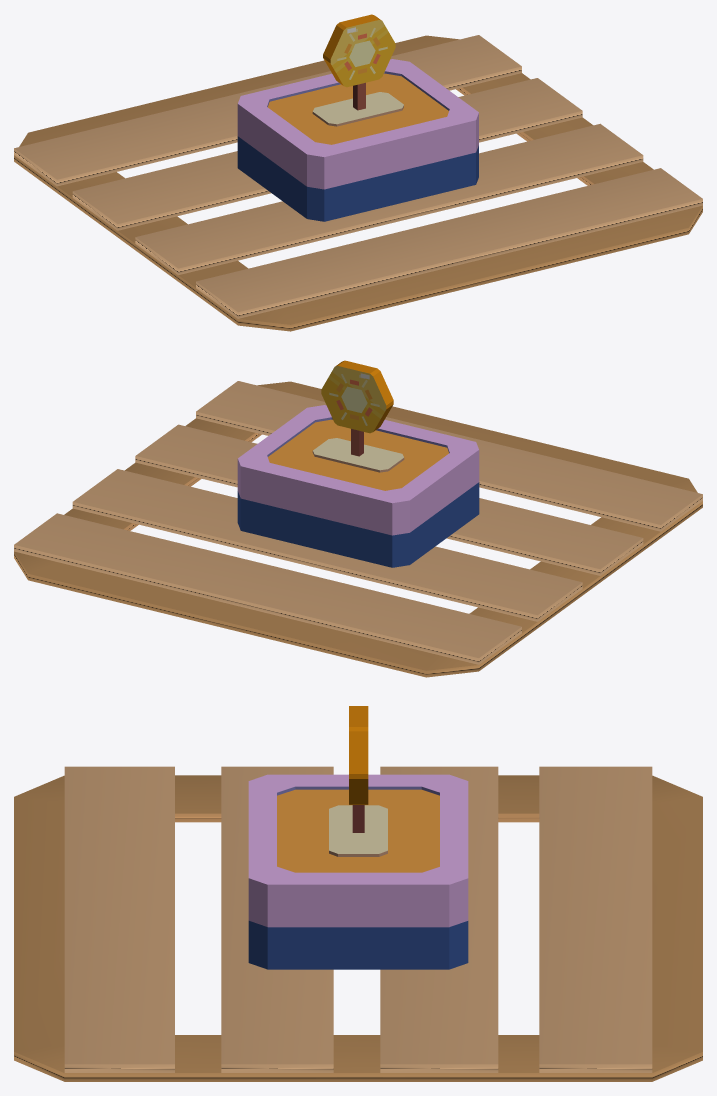
Rendered from BC_cookrecipe_23_2.fbx.
3 renders of one model, top to bottom at view 1: azimuth 30°, elevation 25°; view 2: azimuth 150°, elevation 25°; view 3: azimuth 270°, elevation 25°, orthographic. The views are drawn at different scales.
Parts seen in each view (by area): view 1: base, BC_cookrecipe_24 1; view 2: base, BC_cookrecipe_24 1; view 3: base, BC_cookrecipe_24 1.
Boxes of the visible parts, x1,y1,x2,y2 form: base: (14,35,702,331); BC_cookrecipe_24 1: (237,14,478,221); base: (14,381,702,677); BC_cookrecipe_24 1: (237,360,479,567); base: (14,766,702,1081); BC_cookrecipe_24 1: (248,706,468,969).
Size of the model in its own units: 3.54 by 1.21 by 3.47.
